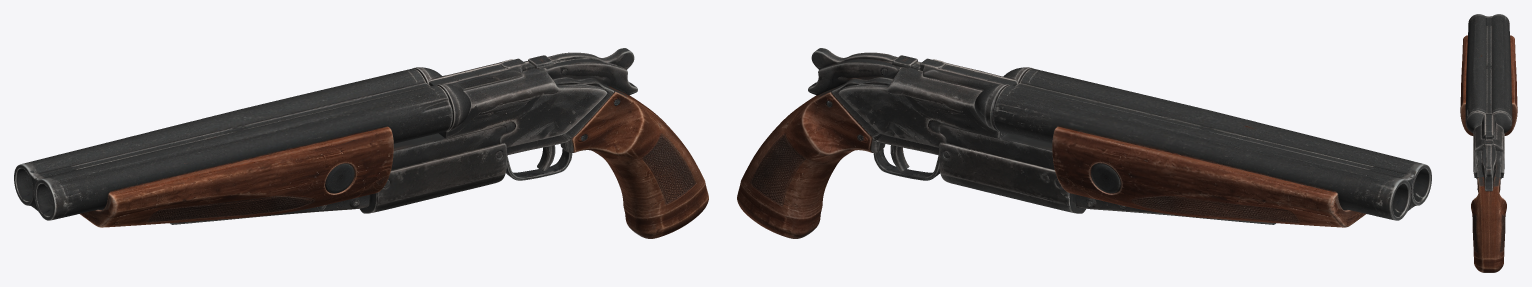
Rendered from super_shotgun.glb.
3 renders of one model, left to right at view 1: azimuth 30°, elevation 25°; view 2: azimuth 150°, elevation 25°; view 3: azimuth 270°, elevation 25°, orthographic. The views are drawn at different scales.
Size of the model in its own units: 1.9 by 0.5697 by 0.2817.
Materials: 1 (1 with a texture image).
